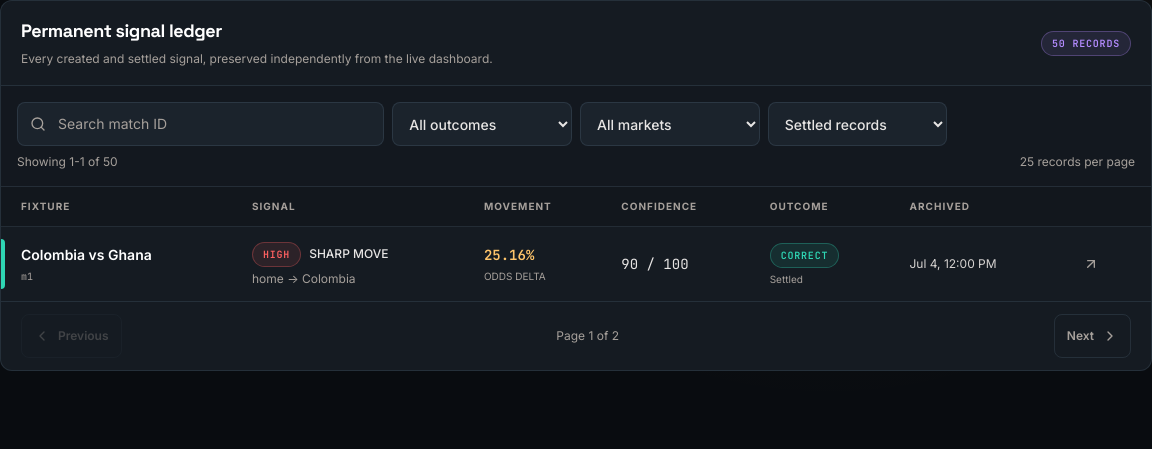
Scenario: SignalArchivePanel › hides stale counts and pagination while a refetch is pending
The image size is (1152, 449).
Expected: the button named "Next archive page" is shown, [1054, 314, 1131, 358]
Select "Correct" in the dropdown named "Outcome" at (482, 124), box [392, 102, 572, 146]
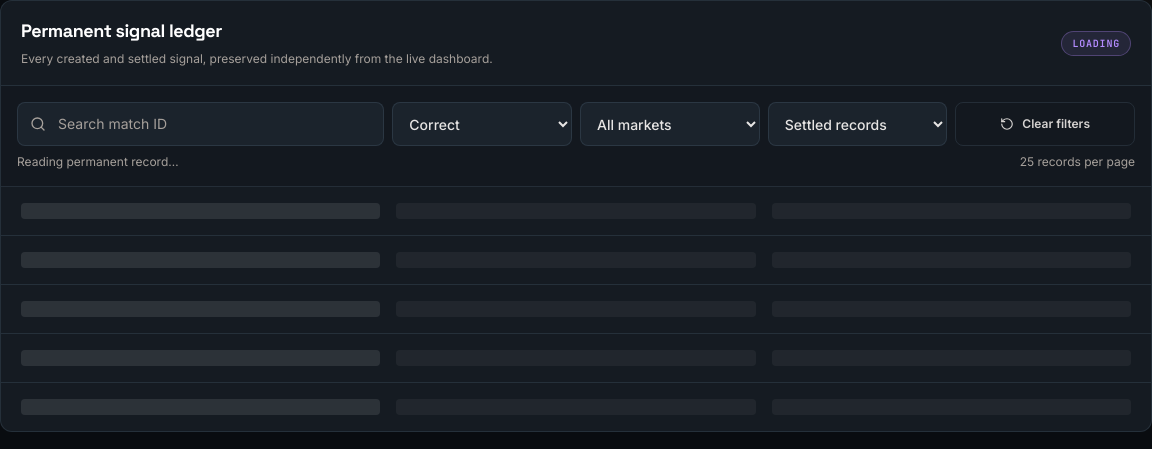
Result: the text "Loading" is shown at [1061, 30, 1131, 56]
Result: the text "50 records" is gone
